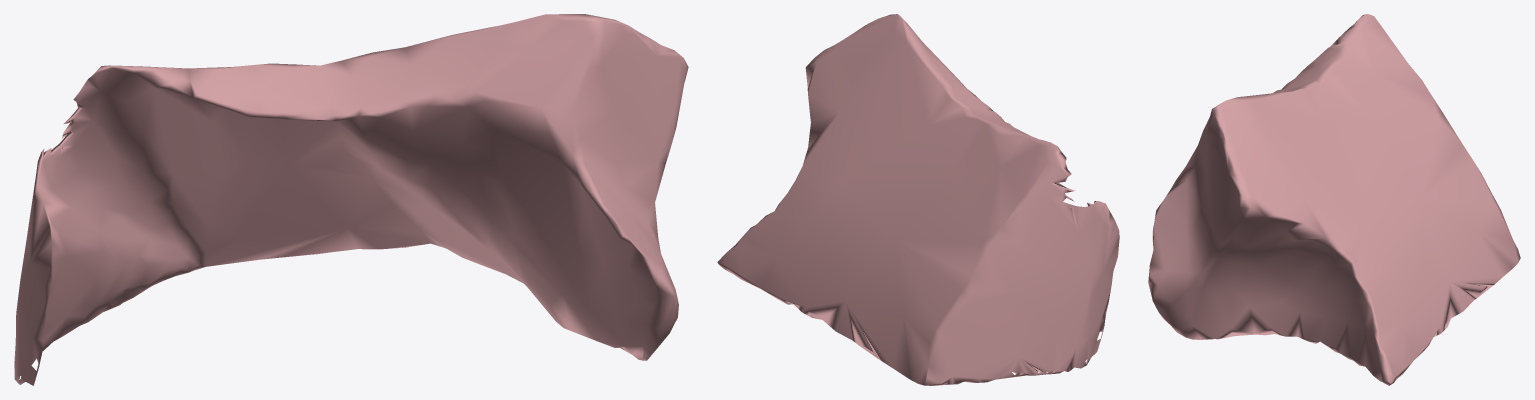
The model's file is fma61093_mm1273.glb.
3 views of the same model, side by side, from view 1: azimuth 30°, elevation 25°; view 2: azimuth 150°, elevation 25°; view 3: azimuth 270°, elevation 25° (orthographic). The views are drawn at different scales.
Visible parts, largest first — view 1: FMA61093_MM1273; view 2: FMA61093_MM1273; view 3: FMA61093_MM1273.
Boxes of the visible parts, box(x1,y1,x2,y2) form: FMA61093_MM1273: box(14, 14, 688, 385); FMA61093_MM1273: box(717, 14, 1119, 385); FMA61093_MM1273: box(1148, 14, 1520, 385).
Bounding box in the file's own units: 0.0158 × 0.00916 × 0.0127.
